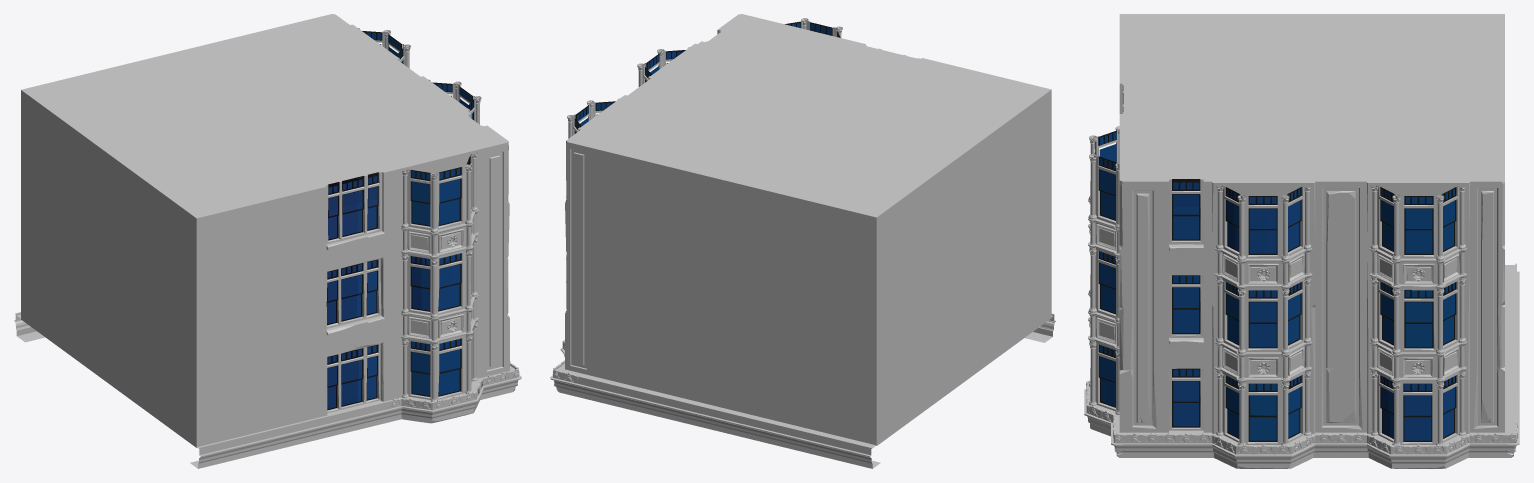
3 renders of one model, left to right at view 1: azimuth 30°, elevation 25°; view 2: azimuth 150°, elevation 25°; view 3: azimuth 270°, elevation 25°, orthographic. The views are drawn at different scales.
Parts seen in each view (by area): view 1: SM_Building_Facade_03b.mo; view 2: SM_Building_Facade_03b.mo; view 3: SM_Building_Facade_03b.mo.
Boxes of the visible parts, bbox=[...] form: SM_Building_Facade_03b.mo: bbox=[14, 14, 521, 468]; SM_Building_Facade_03b.mo: bbox=[550, 14, 1055, 468]; SM_Building_Facade_03b.mo: bbox=[1084, 14, 1519, 468].
Bounding box in the file's own units: 1266 × 878 × 1266.
